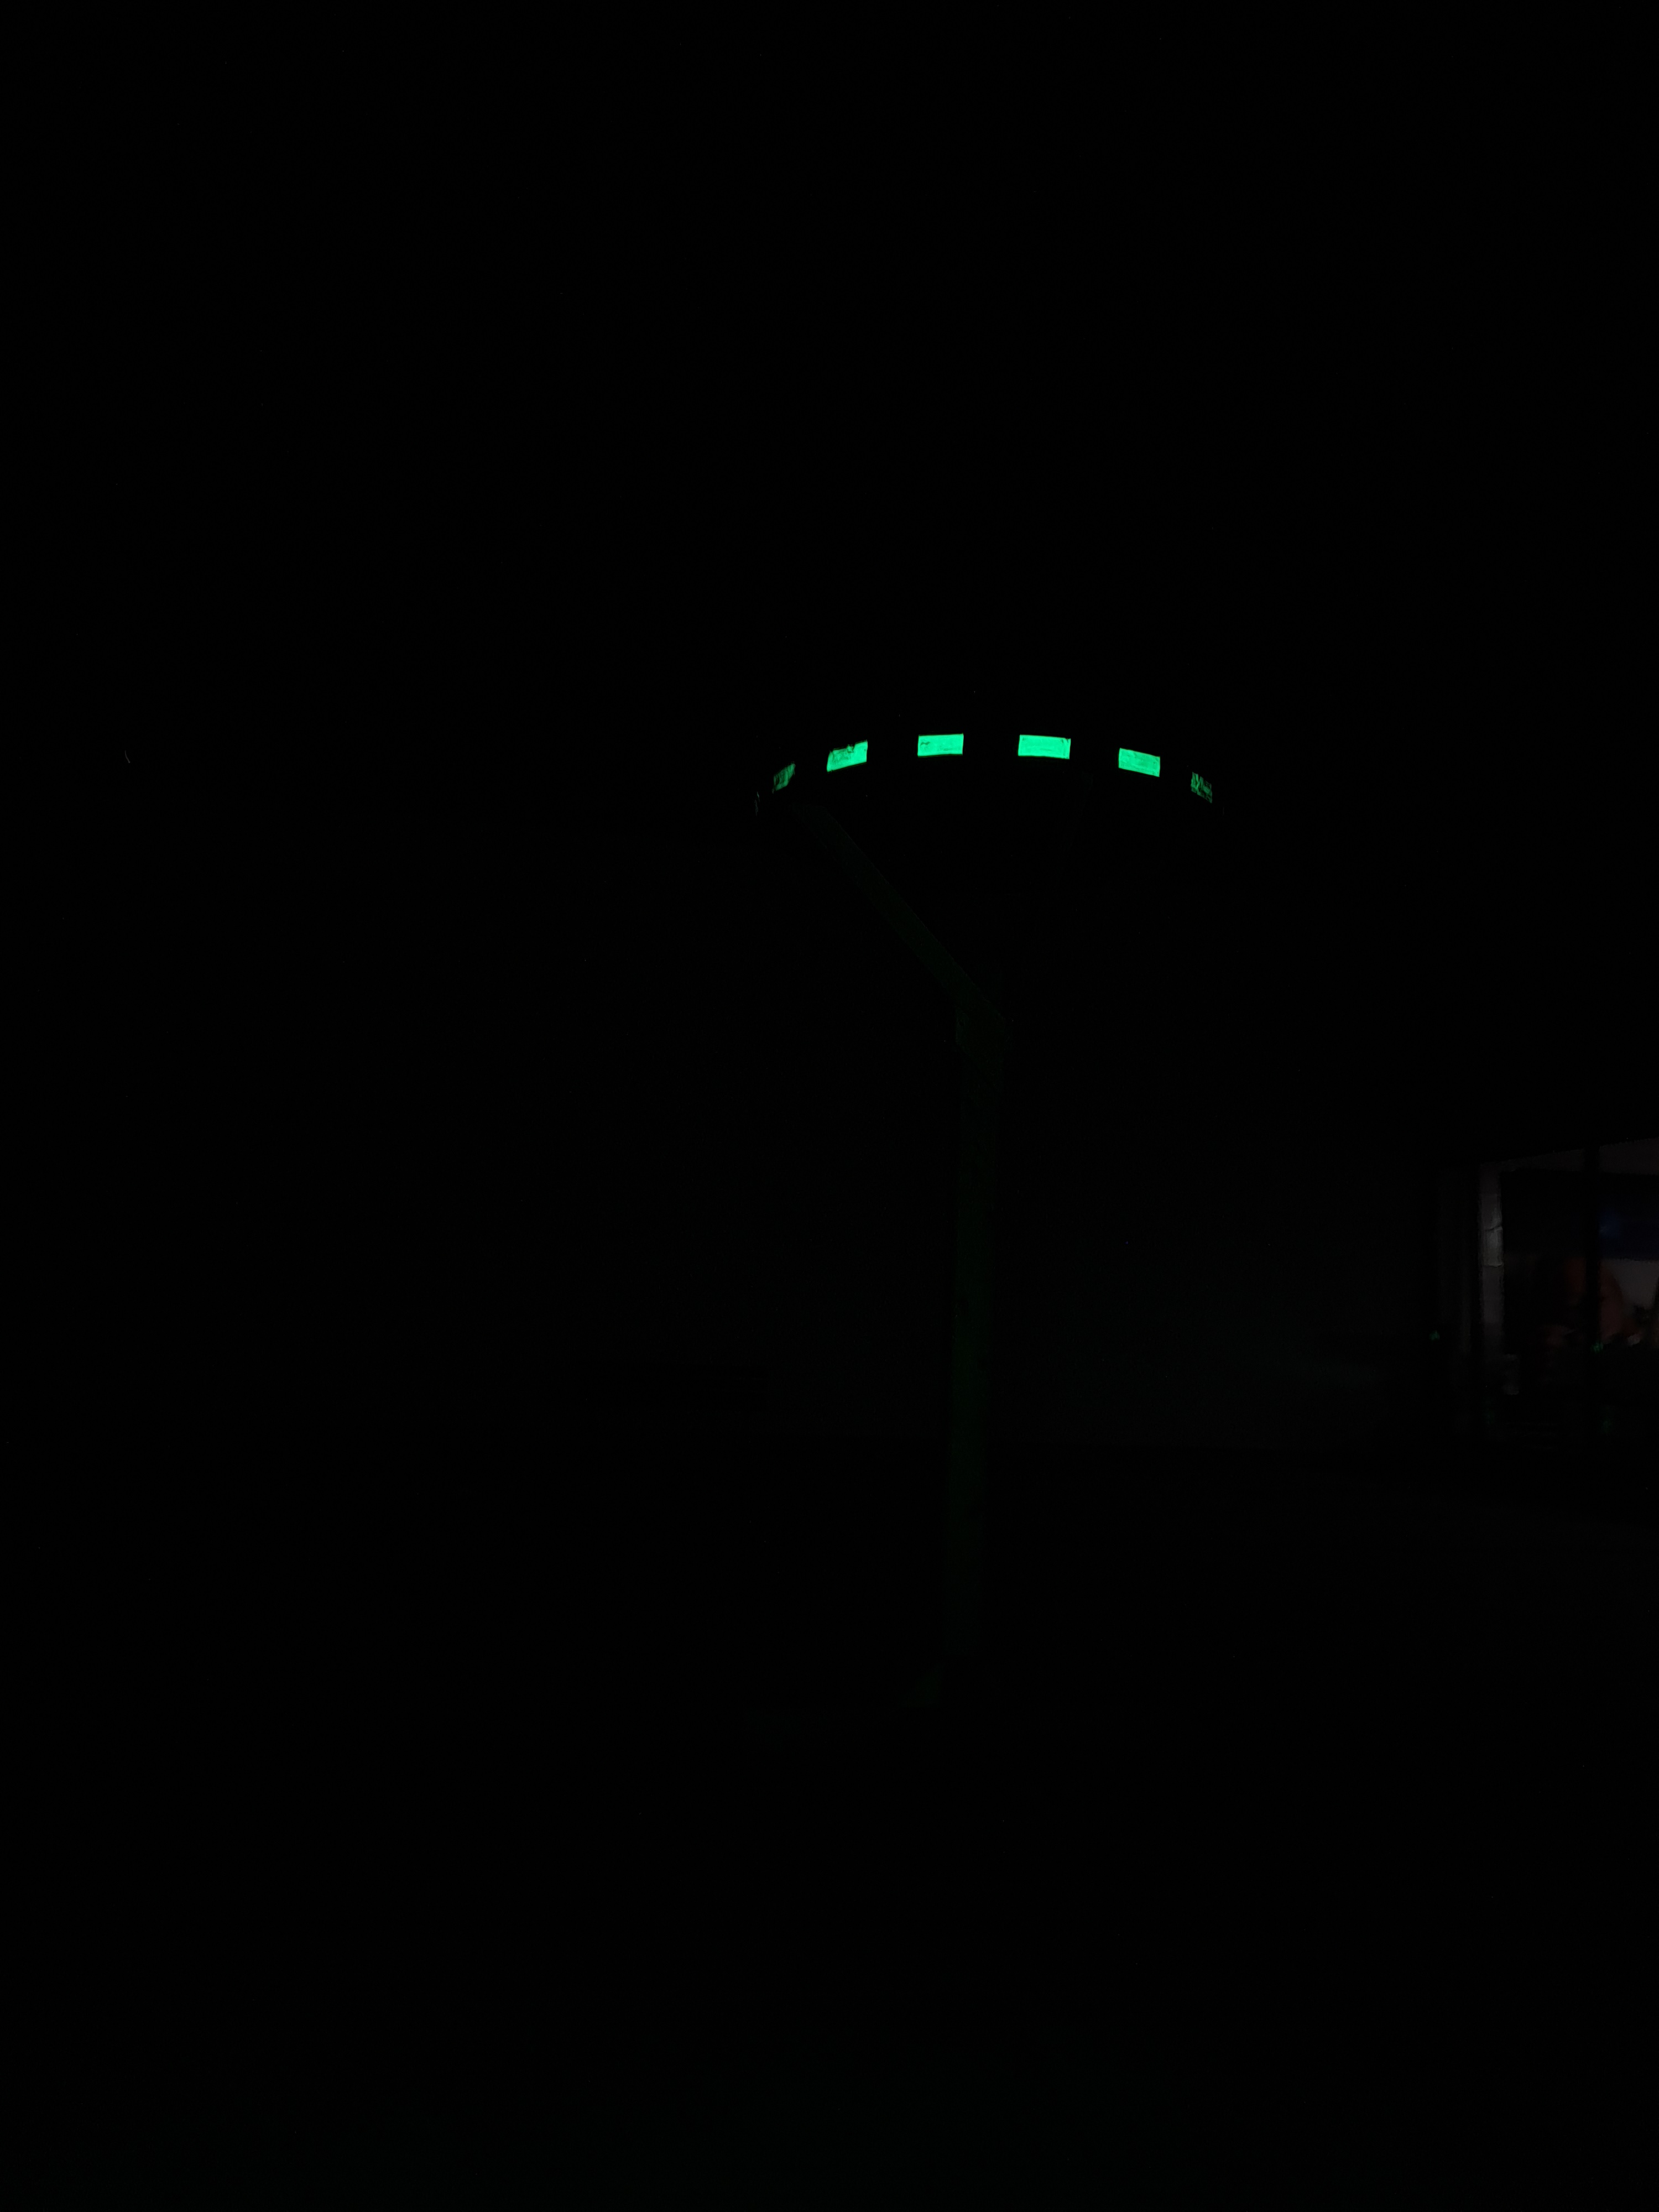hoop: (711, 702, 1236, 819)
